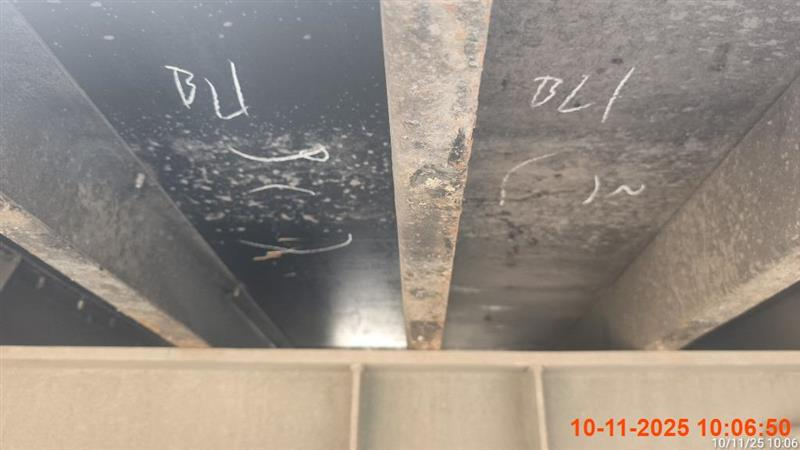broken: (380, 0, 493, 350)
